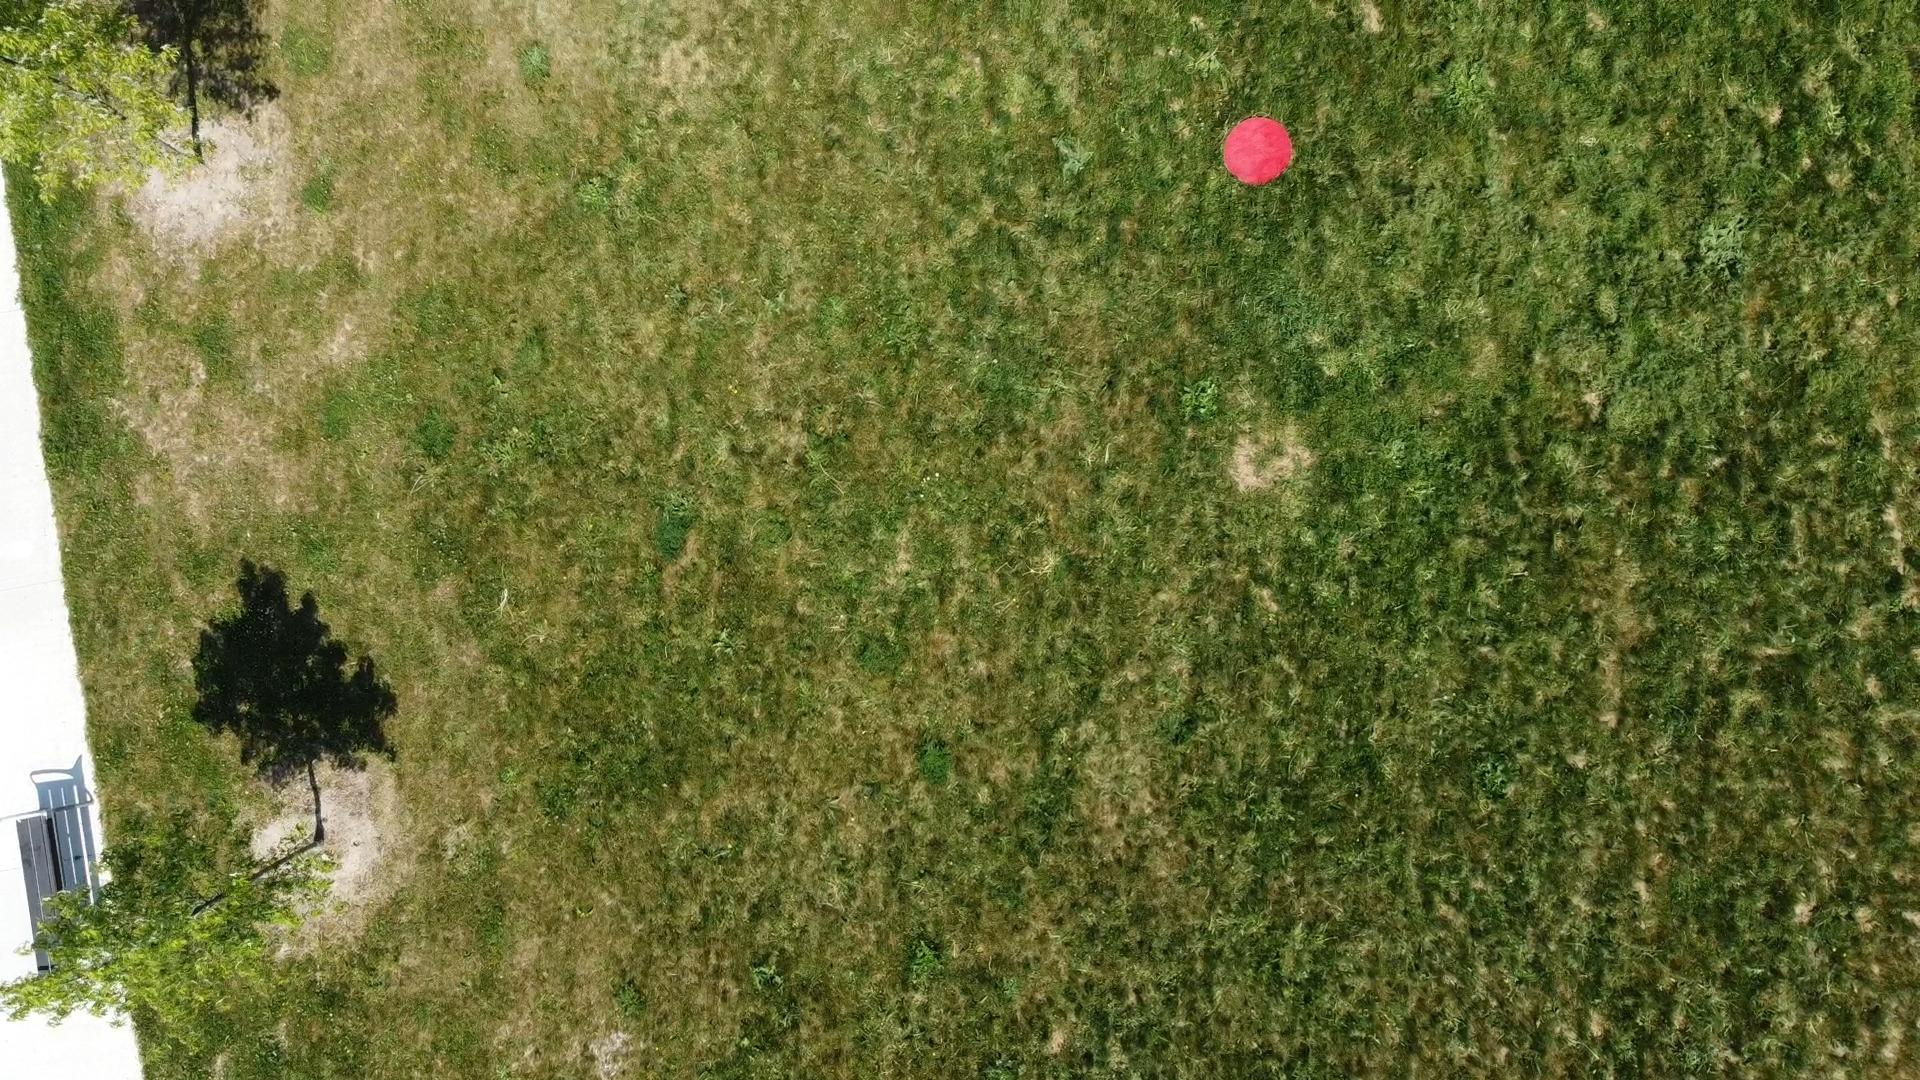Red: (1221, 113, 1296, 189)
